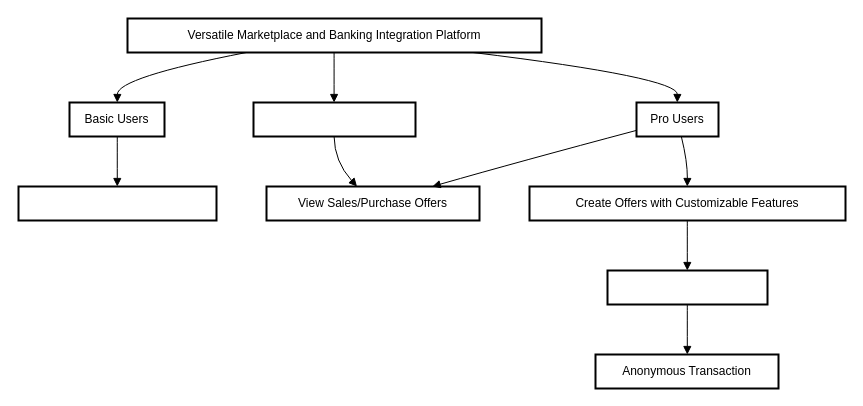
Some shapes in this 863 by 406 pixel diagram are drawn without their labels. Each missing label, with the centre of its shape:
"Authenticated Users" goes at [334,119].
"Document Authentication" goes at [117,203].
"Robust Offer System" goes at [687,287].
